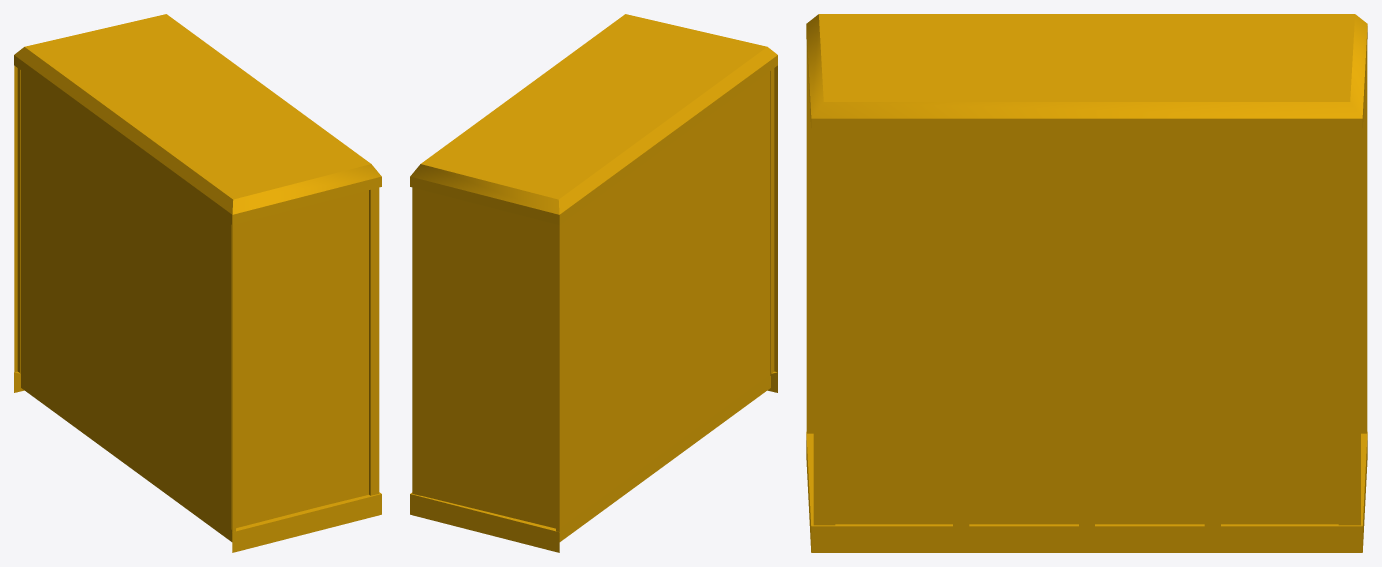
File: Flouers.fbx
3 views of the same model, side by side, from view 1: azimuth 30°, elevation 25°; view 2: azimuth 150°, elevation 25°; view 3: azimuth 270°, elevation 25° (orthographic). The views are drawn at different scales.
Visible parts, largest first — view 1: Flouers; view 2: Flouers; view 3: Flouers.
Boxes of the visible parts, bbox=[...] form: Flouers: bbox=[14, 14, 381, 552]; Flouers: bbox=[410, 14, 777, 552]; Flouers: bbox=[806, 14, 1367, 552].
Size of the model in its own units: 1 by 2.2 by 2.5.
